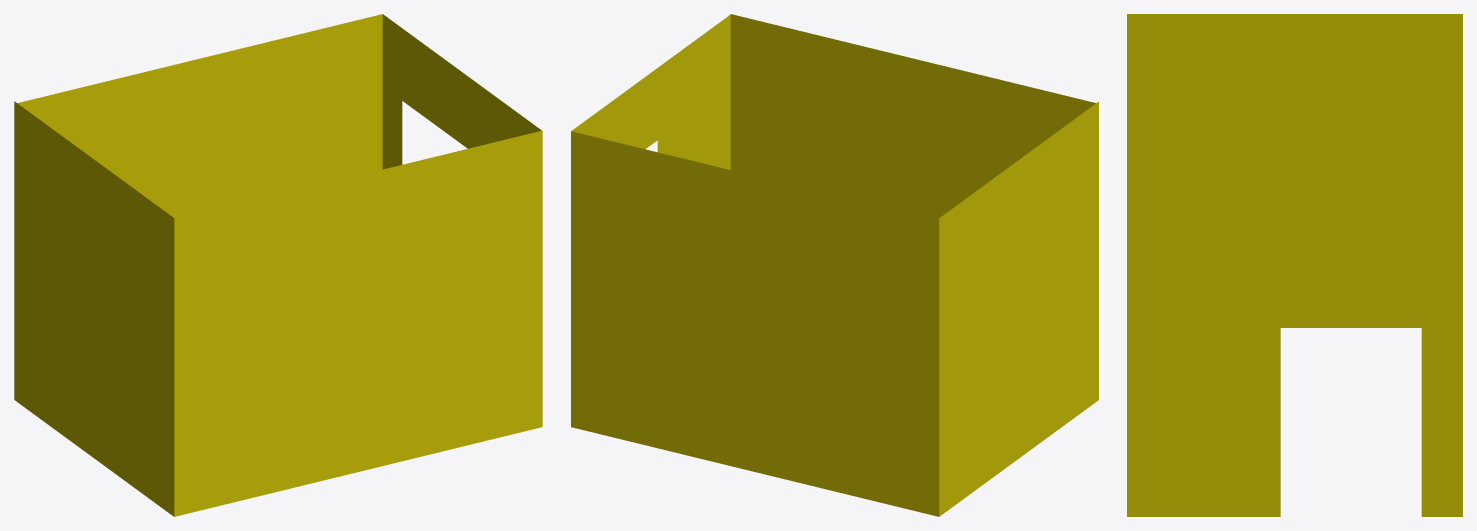
3 renders of one model, left to right at view 1: azimuth 30°, elevation 25°; view 2: azimuth 150°, elevation 25°; view 3: azimuth 270°, elevation 25°, orthographic. The views are drawn at different scales.
Visible parts, largest first — view 1: BH05_WP_08; view 2: BH05_WP_08; view 3: BH05_WP_08.
Part boxes in pixels (x1,y1,x2,y2): BH05_WP_08: (14, 14, 542, 516); BH05_WP_08: (571, 14, 1098, 516); BH05_WP_08: (1127, 14, 1462, 516).
Bounding box in the file's own units: 382 × 296 × 287.
